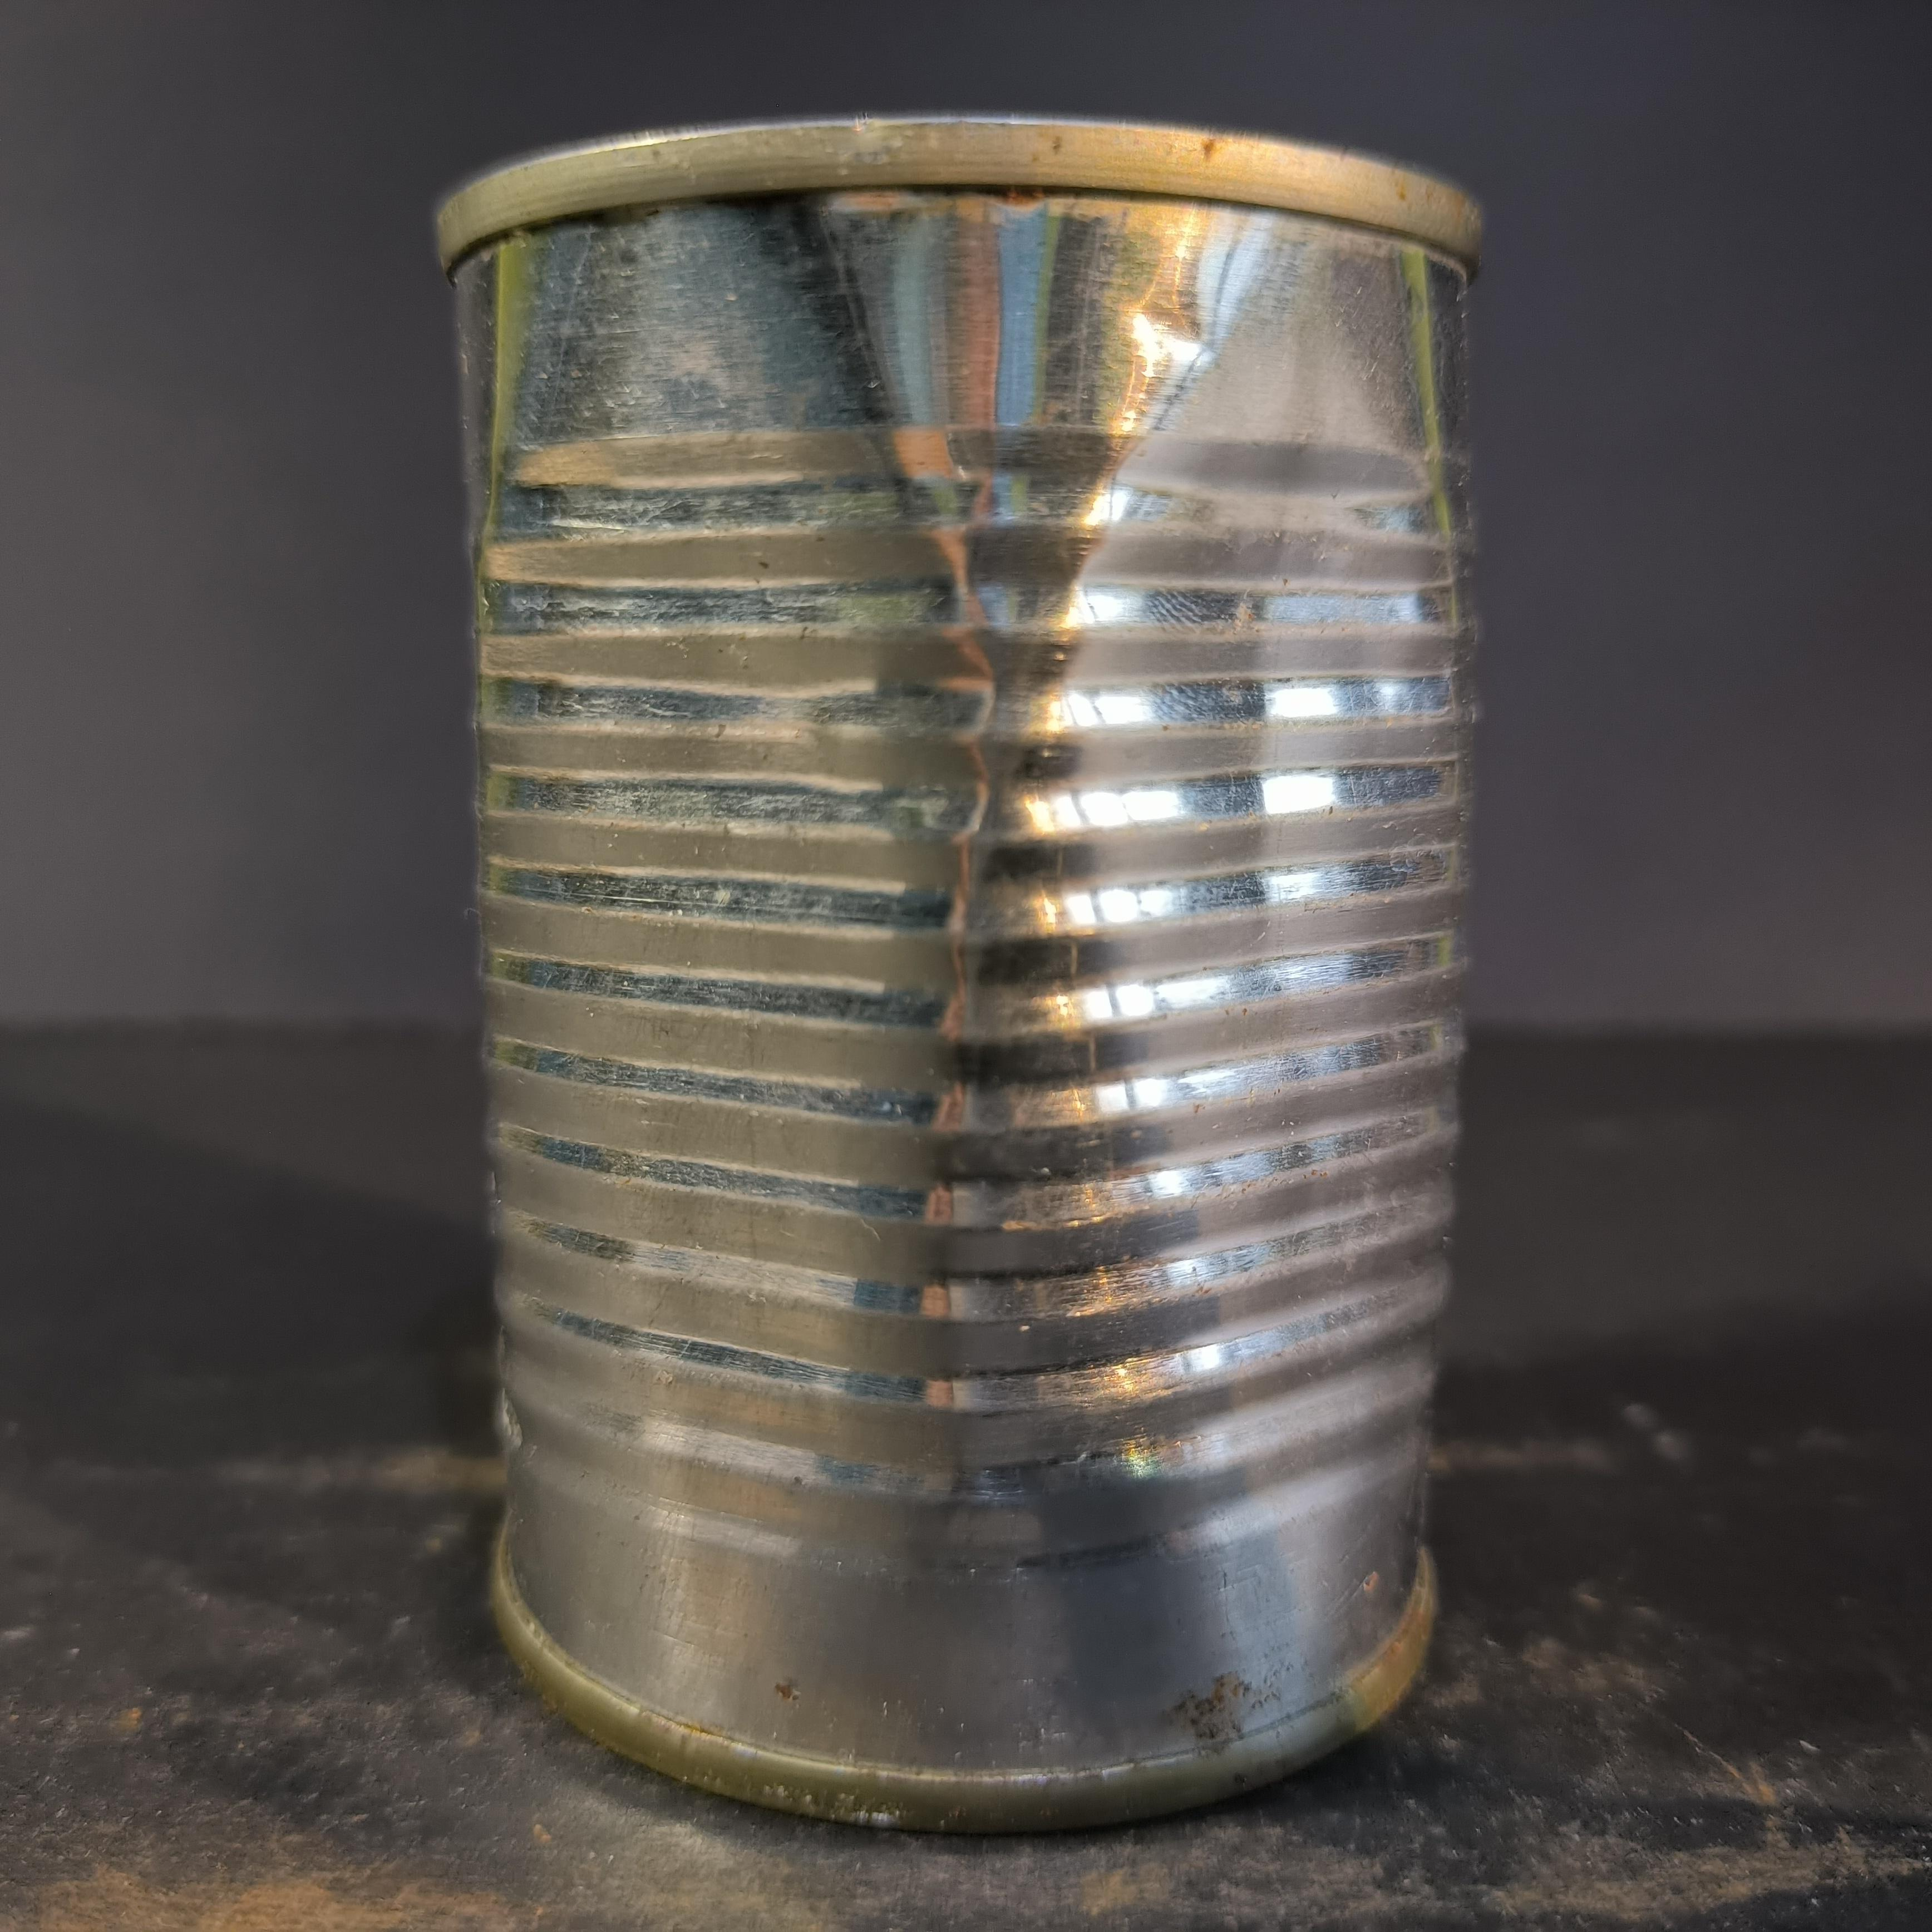Dented: (412, 103, 1516, 1813)
